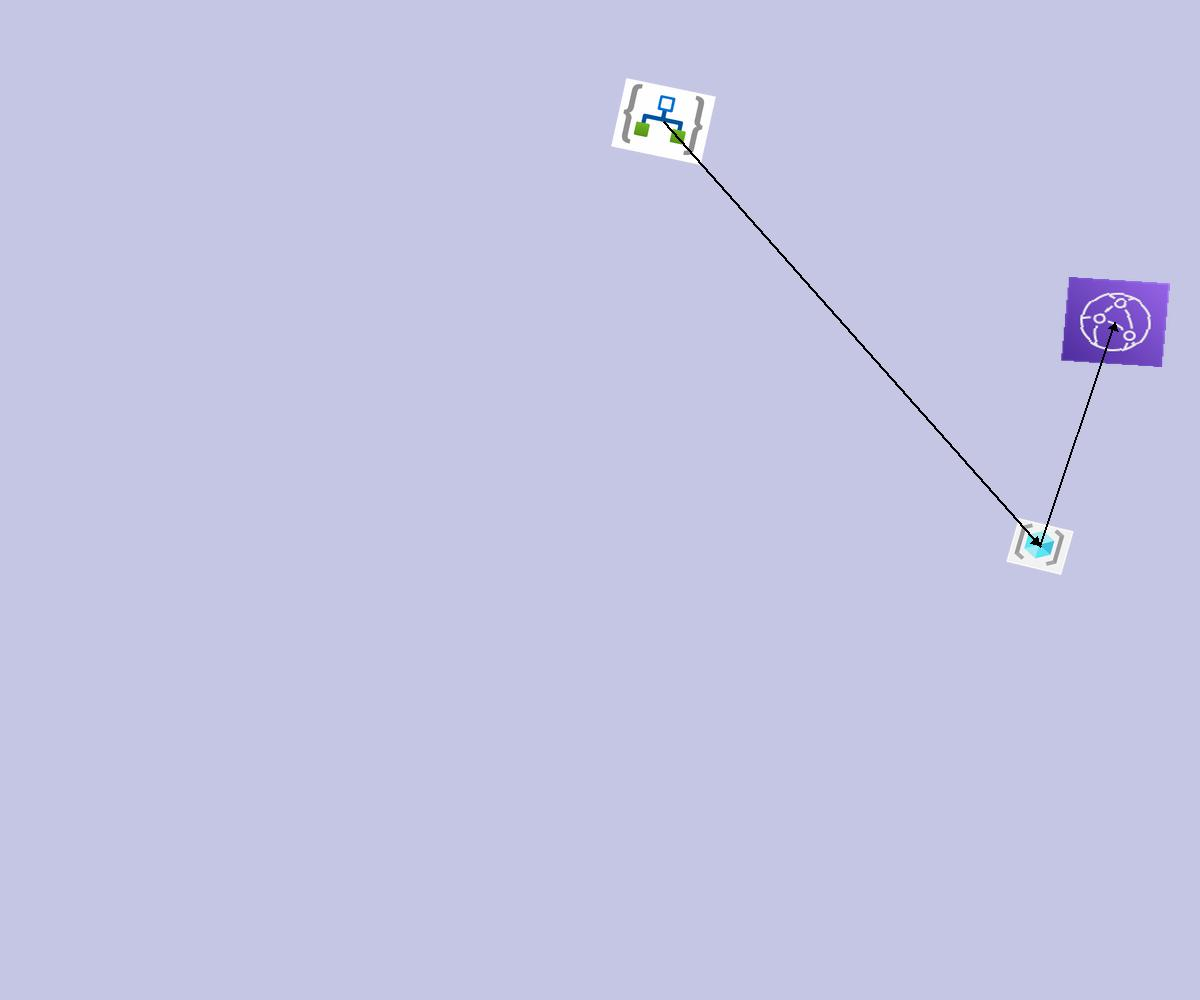AWS-CloudFront: (1060, 276, 1171, 368)
Azure_integration-204-Logic-Apps: (611, 78, 716, 165)
Azure_resource_group: (1006, 518, 1074, 575)
